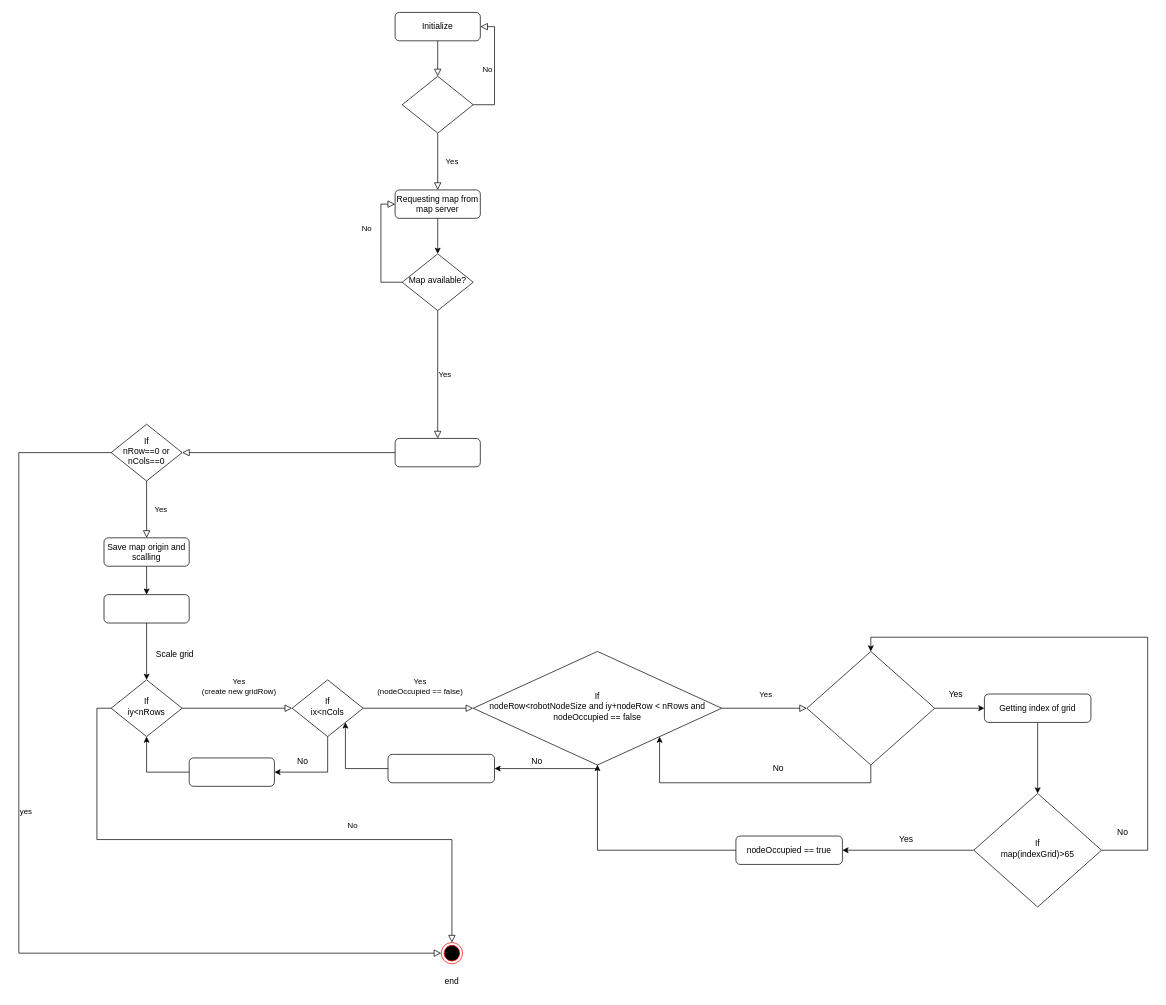
Image size: 1166x1005. Some labels were removed from this diagram. Here are the shapes that lost their labels. From the top down, the box of each, then its label:
(402, 76, 473, 133): Initialized?
(394, 438, 480, 467): Start parse grid
(103, 594, 189, 623): Scale start point
(806, 651, 935, 765): If nodeCol<robotNodeSize and ix+nodeCol < nCols
(189, 757, 274, 786): Grid push_back(gridRow)
(387, 754, 495, 783): gridRow push_back(nodeOccupied)
